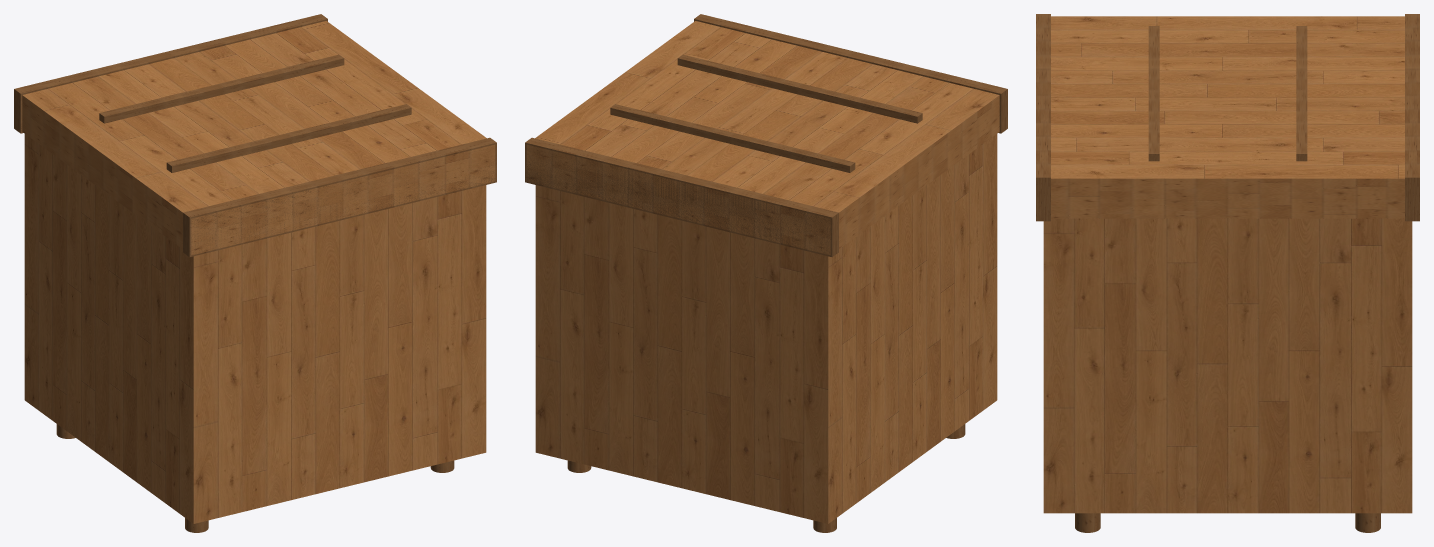
File: table.gltf
The picture shows the model from 3 angles, left to right: view 1: azimuth 30°, elevation 25°; view 2: azimuth 150°, elevation 25°; view 3: azimuth 270°, elevation 25°; orthographic projection. The views are drawn at different scales.
Visible parts, largest first — view 1: body, top, edge_front, edge_back, grain1, grain2; view 2: body, top, edge_back, edge_front, grain2, grain1; view 3: body, top, edge_front, edge_back, grain1, grain2, foot_1, foot_3.
Part boxes in pixels (<box>): body: <box>24,134,486,523</box>; top: <box>22,21,495,255</box>; edge_front: <box>183,137,496,257</box>; edge_back: <box>14,14,327,133</box>; grain1: <box>99,54,344,123</box>; grain2: <box>166,104,411,172</box>; body: <box>535,134,997,523</box>; top: <box>526,21,999,254</box>; edge_back: <box>525,137,838,257</box>; edge_front: <box>694,14,1007,133</box>; grain2: <box>677,54,922,123</box>; grain1: <box>610,104,855,172</box>; body: <box>1043,218,1412,513</box>; top: <box>1051,16,1404,218</box>; edge_front: <box>1036,14,1050,221</box>; edge_back: <box>1405,14,1419,221</box>; grain1: <box>1296,26,1307,161</box>; grain2: <box>1148,26,1159,161</box>; foot_1: <box>1355,513,1380,532</box>; foot_3: <box>1075,513,1100,532</box>.
Size of the model in its own units: 1.05 by 1.11 by 1.04.
2 materials, 2 textured.
